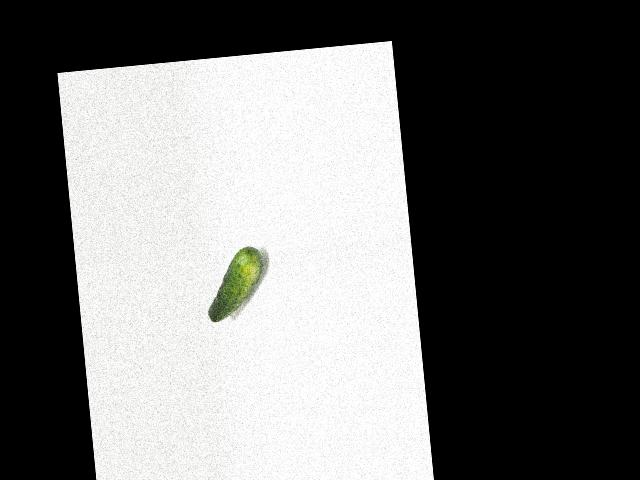cucumber: (202, 246, 267, 323)
